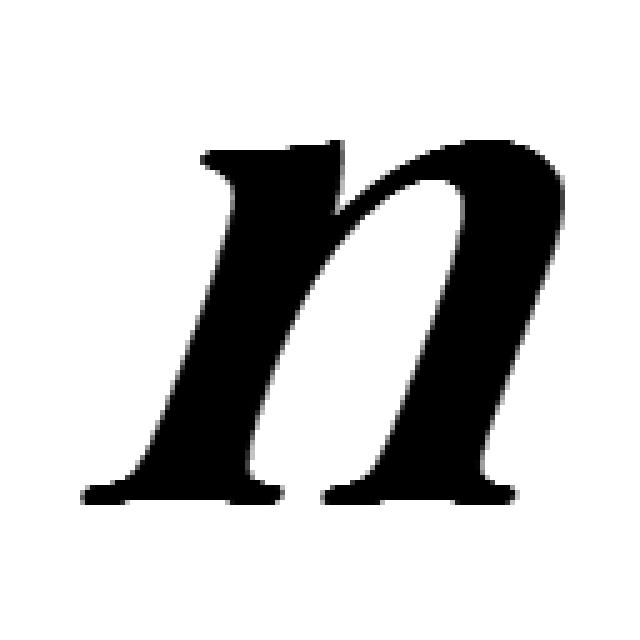N: (100, 134, 564, 514)
